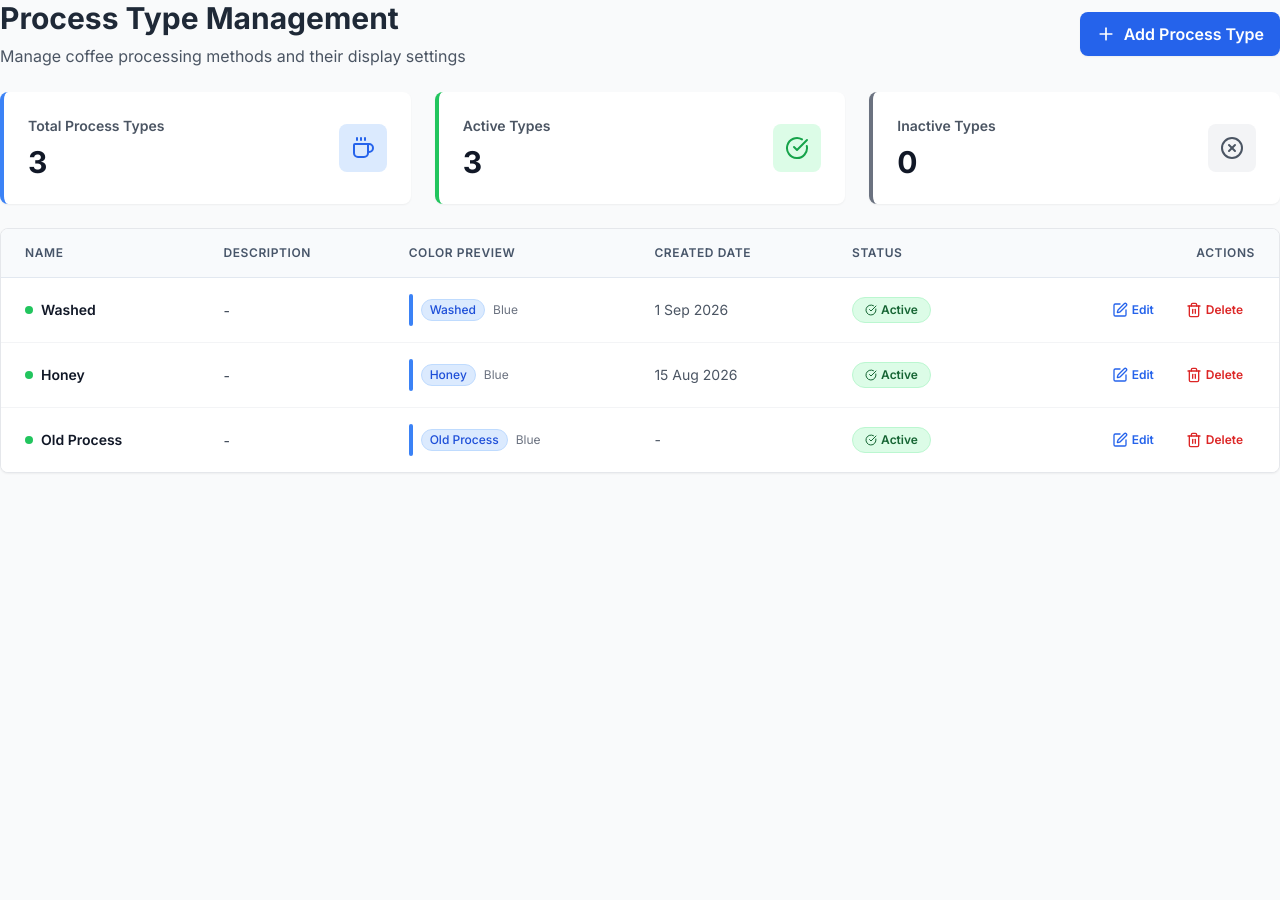
Scenario: Process type delete › says so when records still use the type
Click the button "Delete" in the row of "1 Sep 2026": [1214, 310] box [1174, 296, 1255, 324]
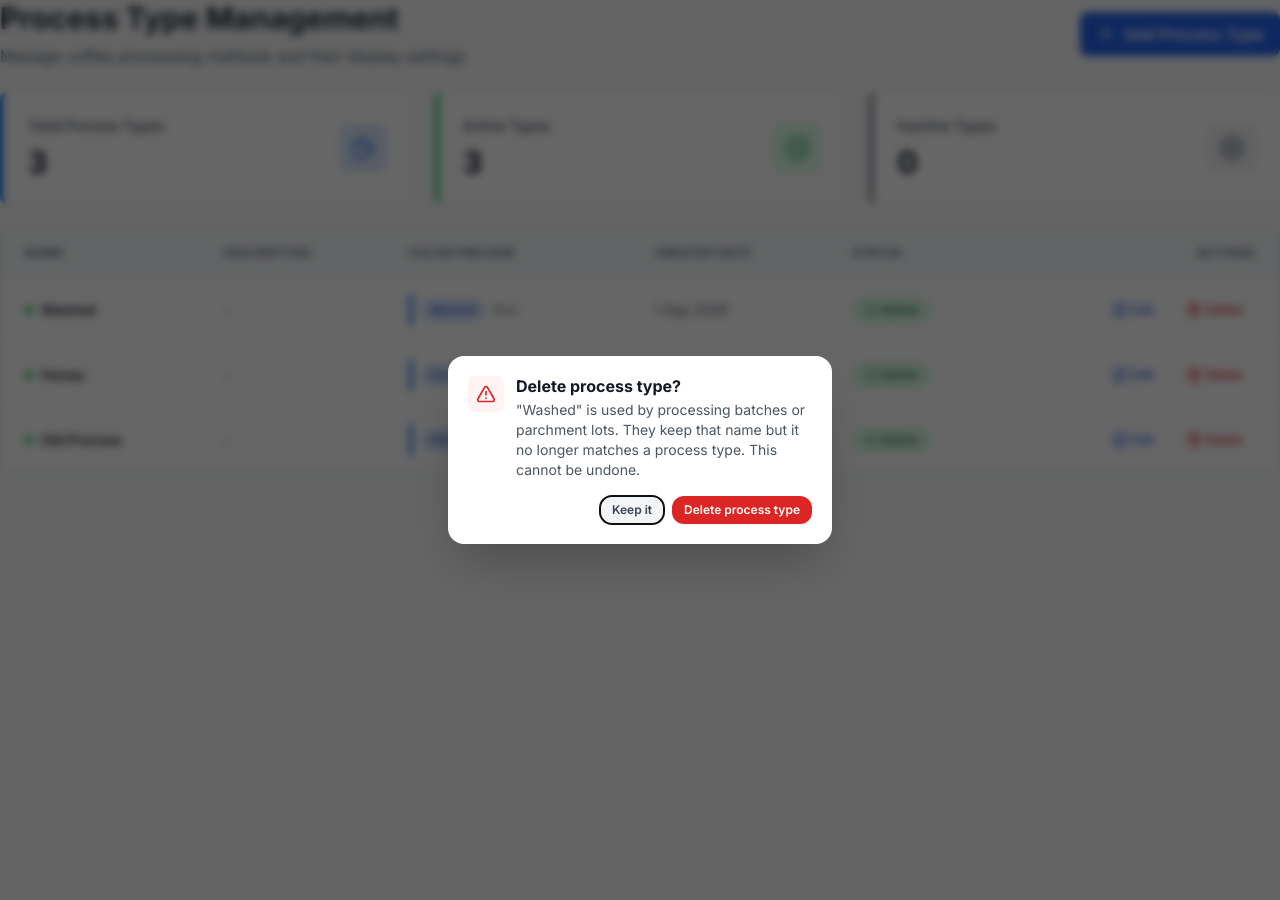
Now the dialog shows "is used by processing batches or parchment lots", box [516, 401, 805, 478]
